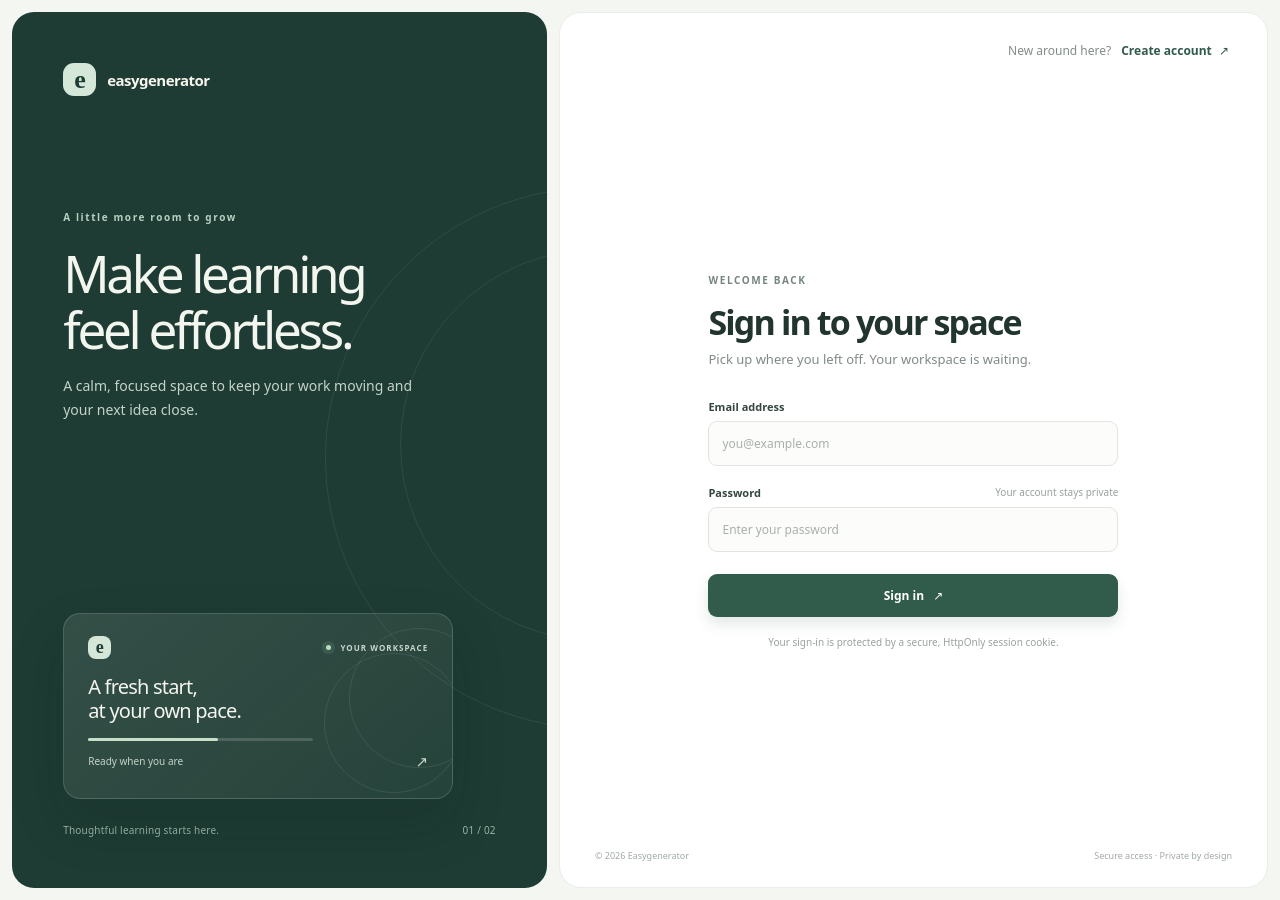
Test: authentication flow › signs in and opens the protected application page
The image size is (1280, 900).
In the field labelled "Email address": coordinates (914, 443) [708,421,1118,466], type "alex@example.com"
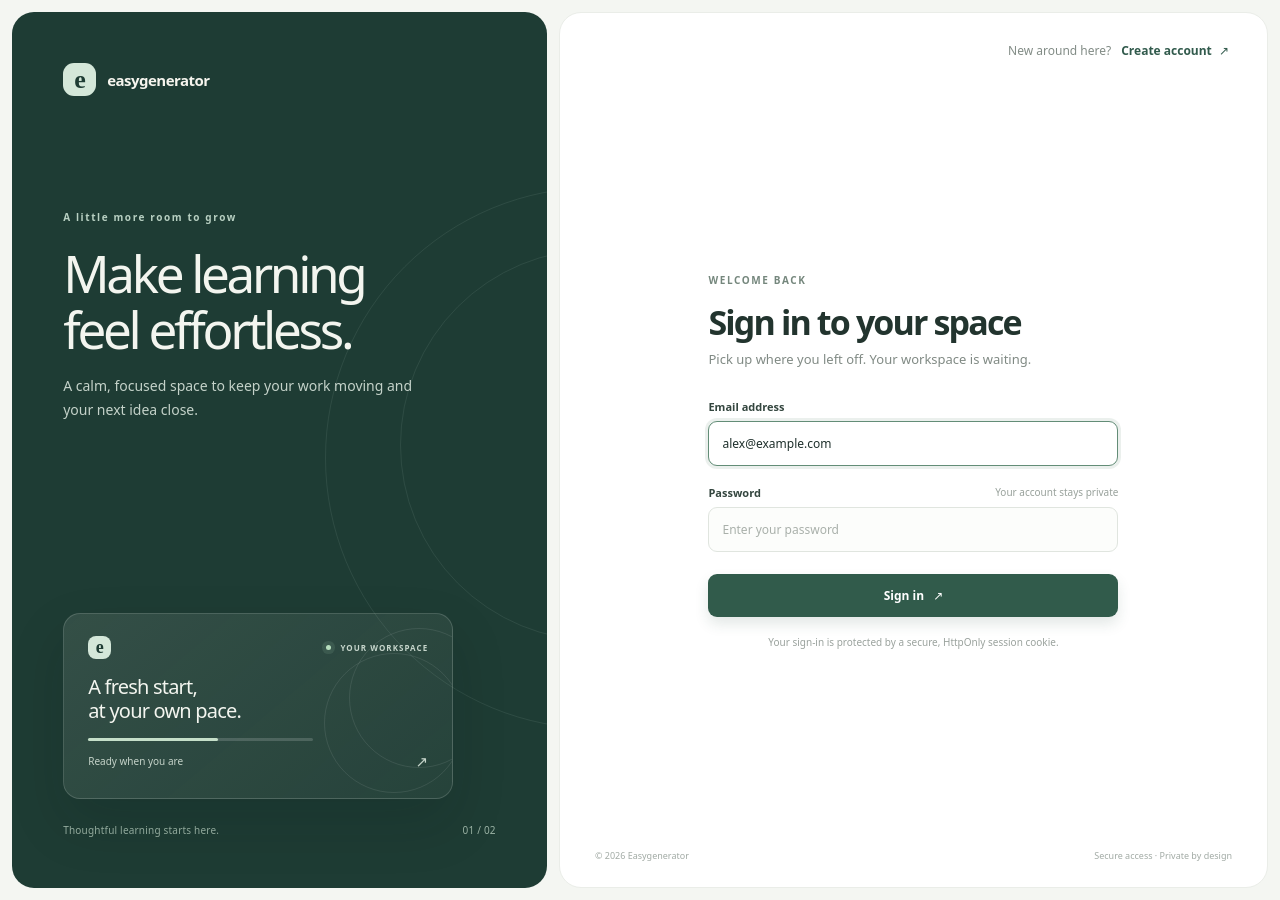
In the password field labelled "Password": coordinates (914, 529) [708,507,1118,552], type "StrongPass1!"
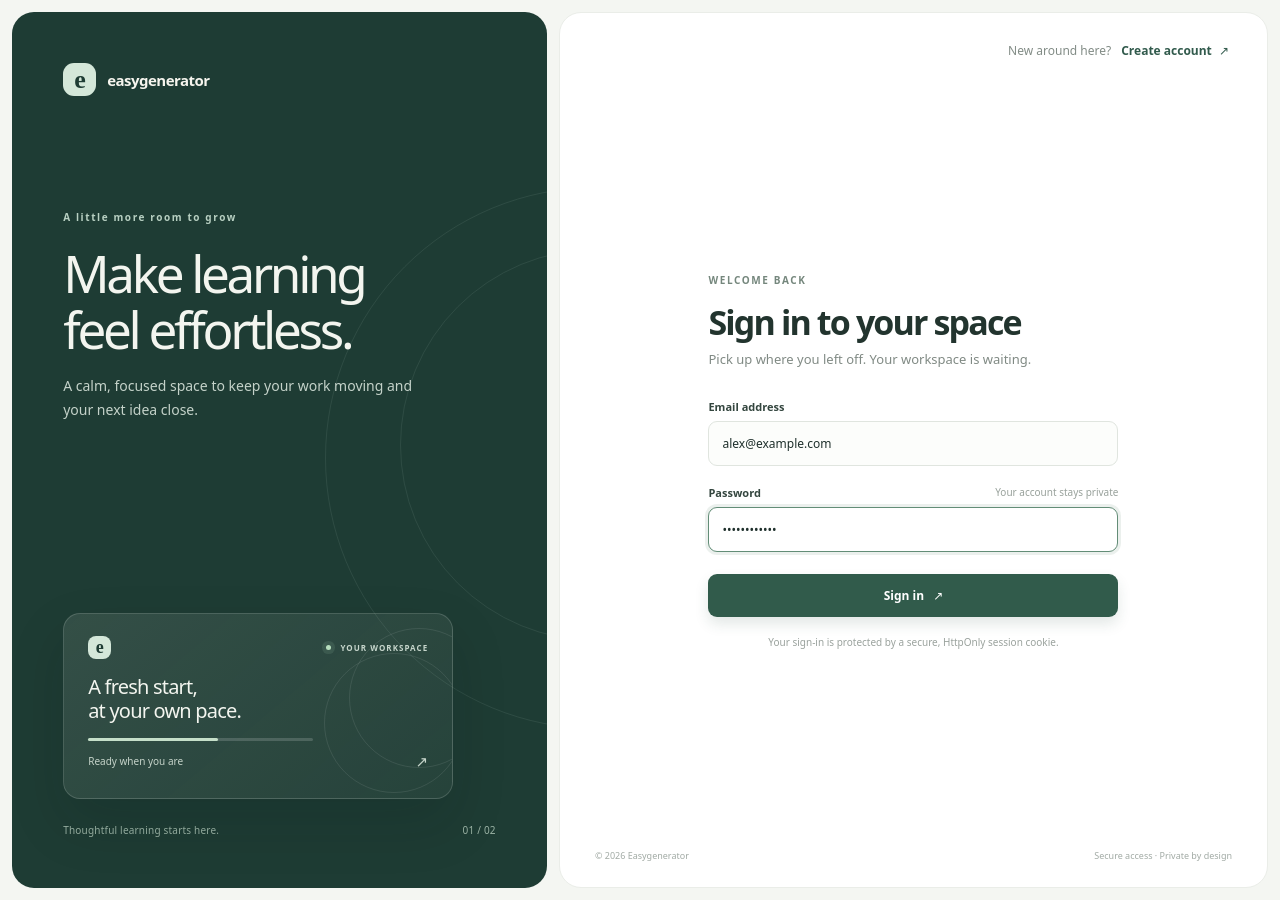
Click the button "Sign in ↗": coordinates (914, 595) [708,574,1118,617]
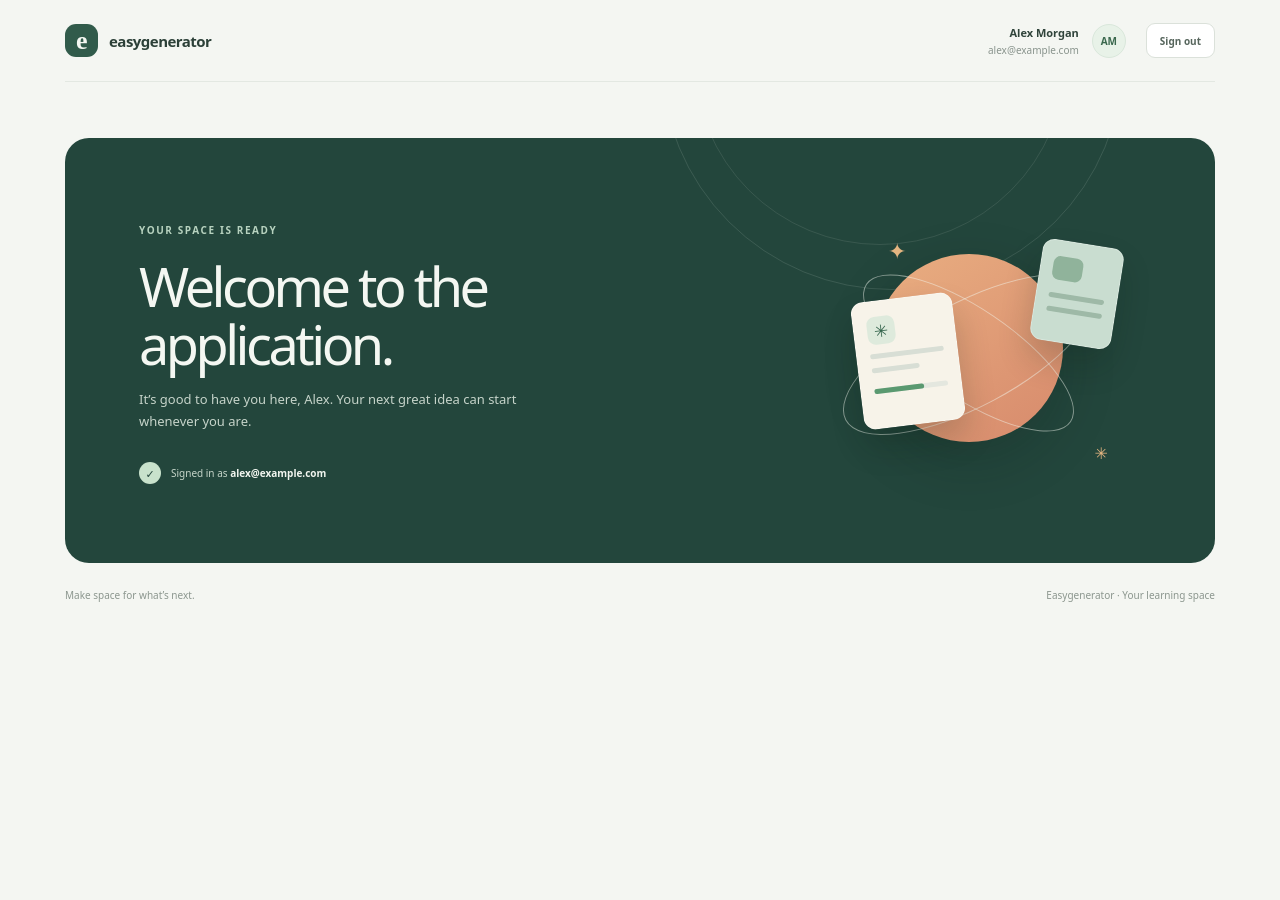
Check: the heading "Welcome to the application." is shown, box [139,249,486,381]
Check: the text "alex@example.com" is shown 2 times, box [988,42,1079,56]; [230,466,326,480]
